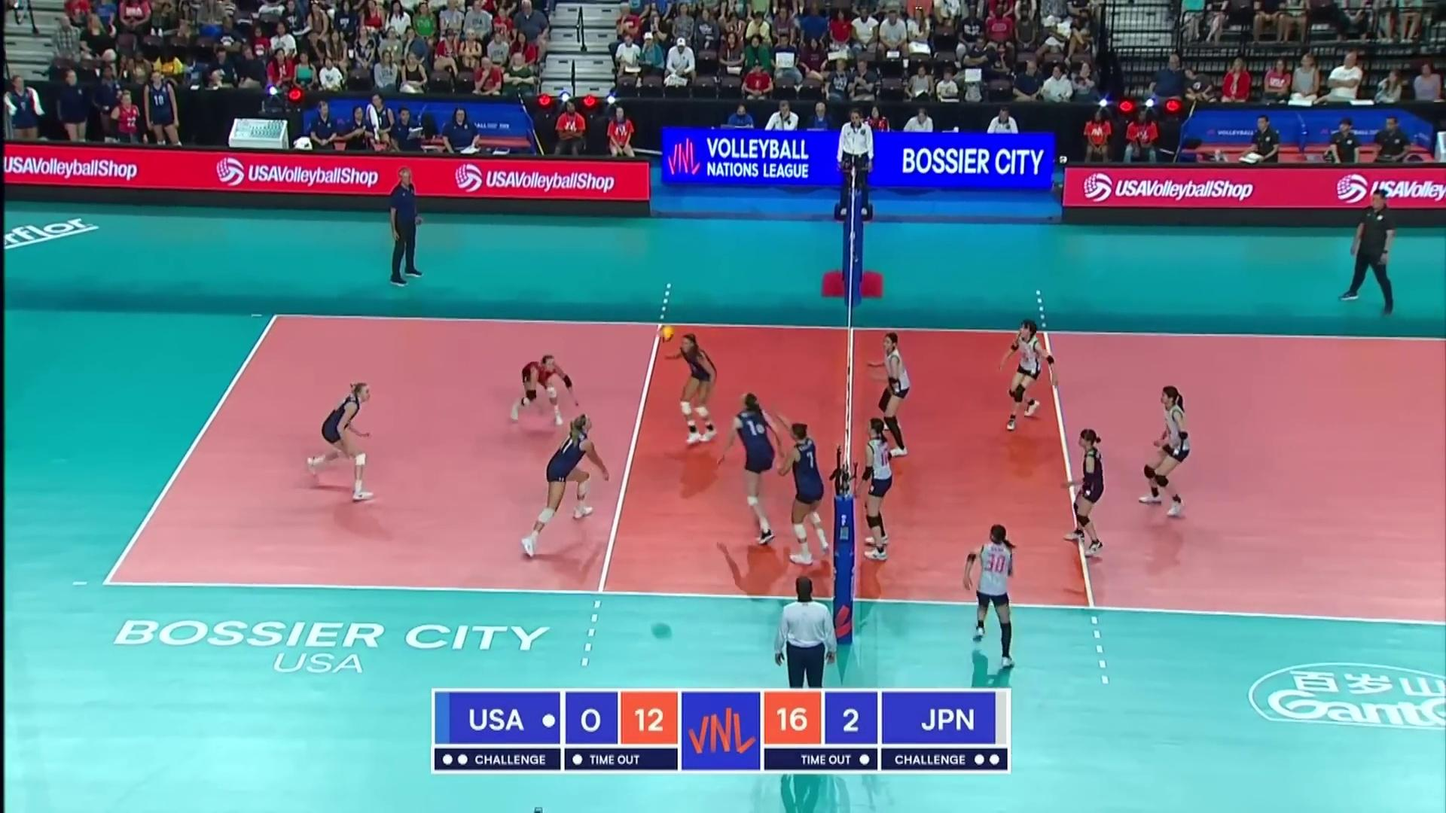player: (518, 414, 610, 559), (716, 394, 789, 547), (308, 383, 374, 503), (964, 524, 1017, 666), (777, 422, 829, 565), (1138, 384, 1193, 515), (999, 319, 1058, 431), (666, 330, 719, 443), (857, 416, 896, 561), (866, 332, 911, 456), (1063, 428, 1105, 555), (512, 355, 579, 426)
refree: (775, 577, 837, 704), (838, 109, 876, 215)
